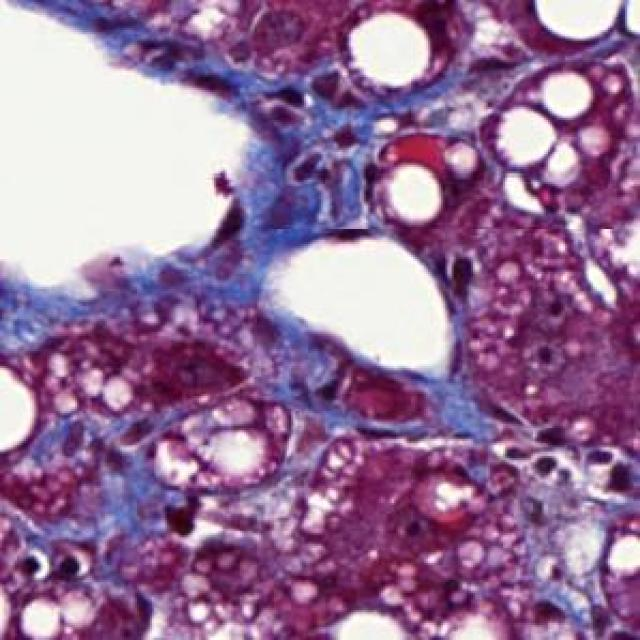inflammation: (483, 396, 640, 501)
